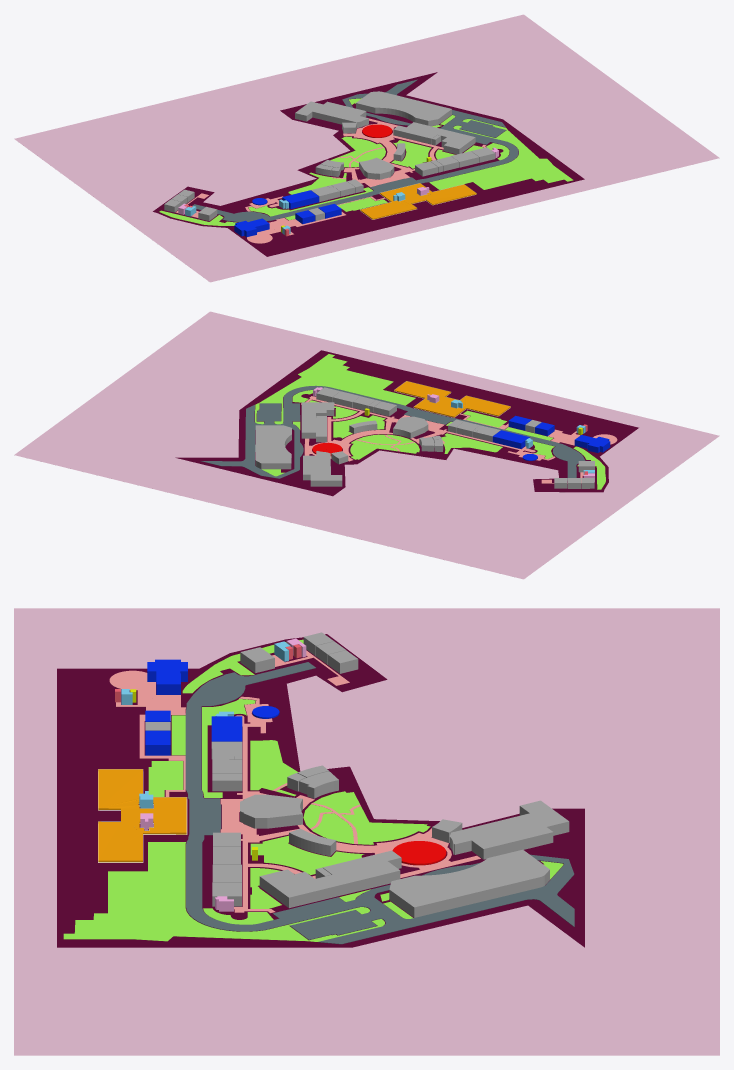
Rendered from njc-l1-outlined.glb.
3 views of the same model, one above another, from view 1: azimuth 30°, elevation 25°; view 2: azimuth 150°, elevation 25°; view 3: azimuth 270°, elevation 25° (orthographic). The views are drawn at different scales.
Parts seen in each view (by area): view 1: Grey, Base, None, Grass, Drive, Foot, Canteen | 45, Dance Studio 03, Sanctuary; view 2: Grey, Base, None, Grass, Drive, Foot, Canteen | 45, Dance Studio 03, Sanctuary; view 3: Grey, Base, None, Grass, Drive, Foot, Canteen | 45, Dance Studio 03, Atrium | 30, Sanctuary.
Boxes of the visible parts, left/top/right/bottom form: Grey: left=14, top=14, right=719, bottom=282; Base: left=153, top=72, right=584, bottom=256; None: left=164, top=91, right=495, bottom=220; Grass: left=159, top=98, right=573, bottom=225; Drive: left=192, top=79, right=518, bottom=222; Foot: left=175, top=118, right=486, bottom=243; Canteen | 45: left=360, top=183, right=476, bottom=219; Dance Studio 03: left=234, top=218, right=269, bottom=237; Sanctuary: left=282, top=190, right=319, bottom=208; Grey: left=14, top=311, right=719, bottom=579; Base: left=175, top=350, right=638, bottom=496; None: left=255, top=387, right=594, bottom=488; Grass: left=255, top=354, right=605, bottom=489; Drive: left=200, top=385, right=585, bottom=480; Foot: left=301, top=396, right=617, bottom=483; Canteen | 45: left=394, top=381, right=510, bottom=417; Dance Studio 03: left=574, top=435, right=610, bottom=452; Sanctuary: left=492, top=430, right=529, bottom=448; Grey: left=14, top=608, right=719, bottom=1055; Base: left=57, top=634, right=584, bottom=947; None: left=145, top=632, right=569, bottom=917; Grass: left=63, top=639, right=563, bottom=941; Drive: left=185, top=662, right=574, bottom=944; Foot: left=109, top=650, right=480, bottom=913; Canteen | 45: left=98, top=769, right=187, bottom=862; Dance Studio 03: left=147, top=659, right=187, bottom=694; Atrium | 30: left=392, top=841, right=446, bottom=865; Sanctuary: left=211, top=716, right=242, bottom=741.
Bounding box in the file's own units: 18 × 0.2 × 12.
